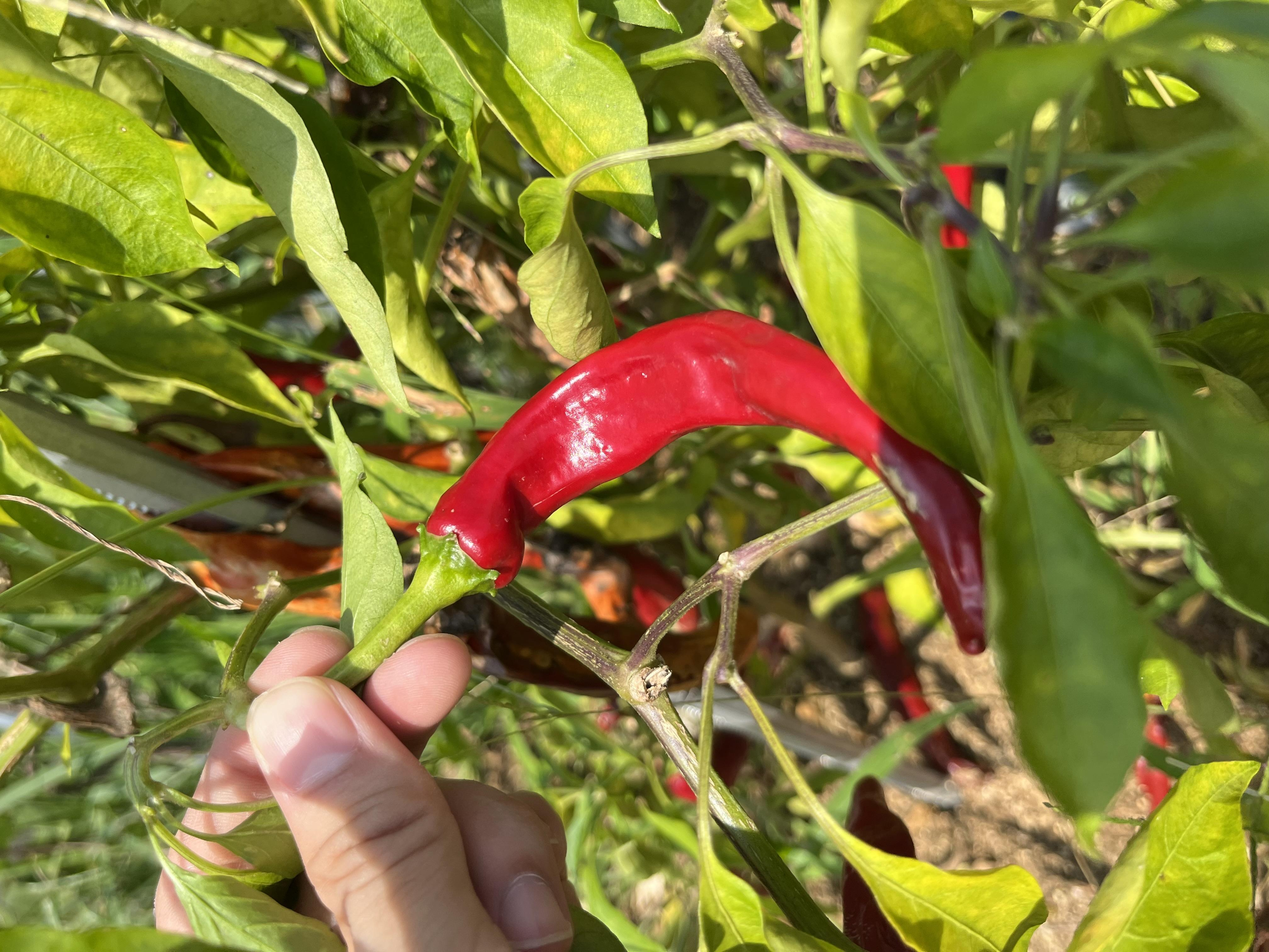Buah Cabai Sehat: (386, 296, 866, 749)
